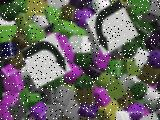Left: (85, 0, 138, 56)
Right: (20, 32, 72, 88)
